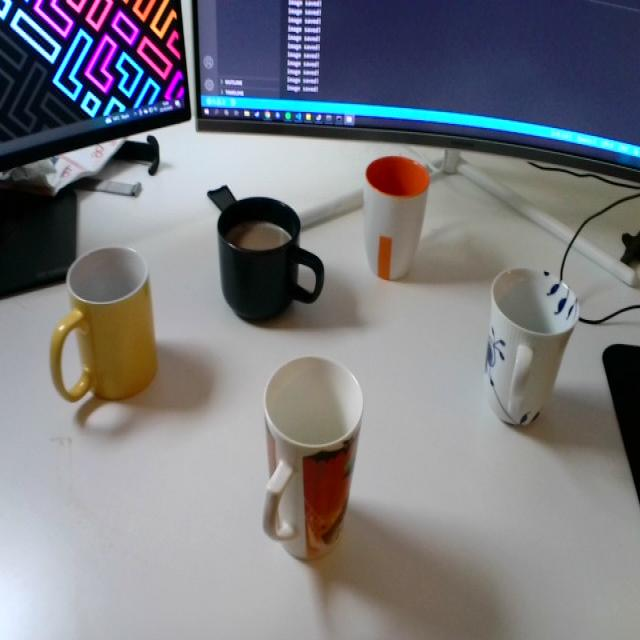Cocio Cup: (48, 244, 160, 404)
Cup: (215, 193, 328, 322)
Halloween cup: (262, 353, 365, 560)
Hand painted cup: (484, 267, 581, 427)
White Cup: (362, 155, 431, 283)
